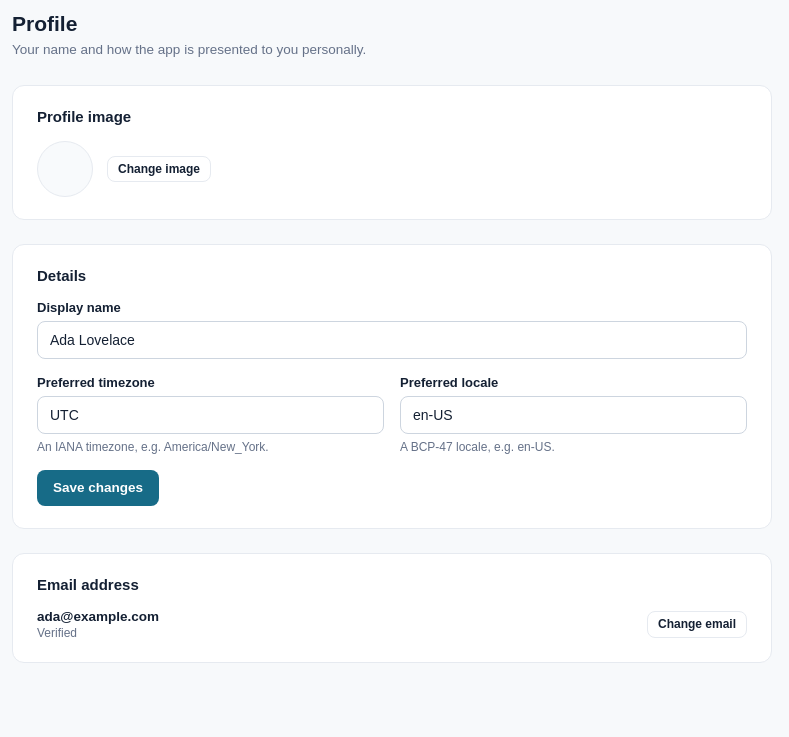
Test: ProfileSettings › saves a display name change
Replace the text in the field labelled "Display name" with "Ada K. Lovelace" at (392, 340), box [37,321,747,359]
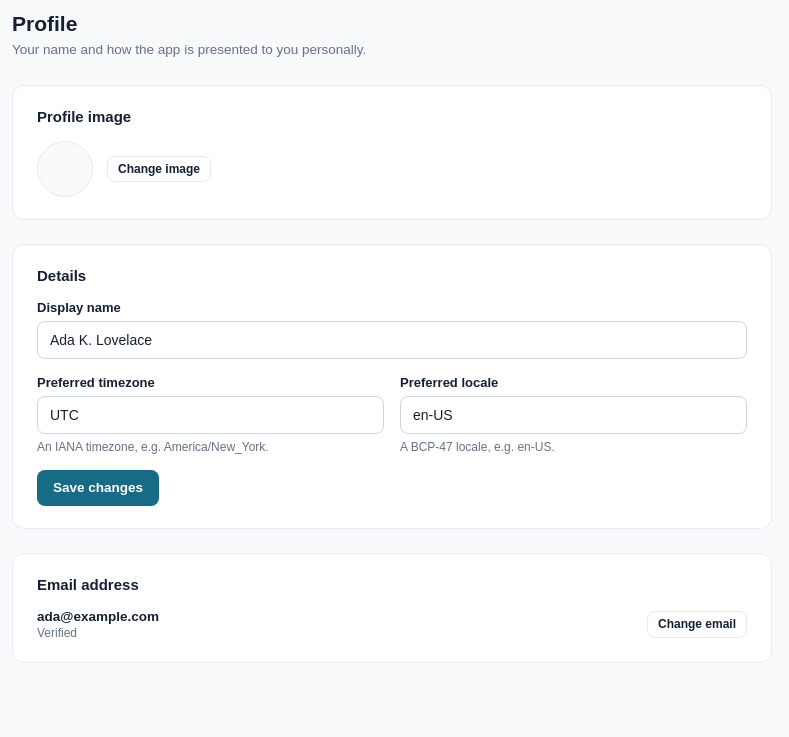
Click the button "Save changes" at (98, 488), box [37,470,159,506]
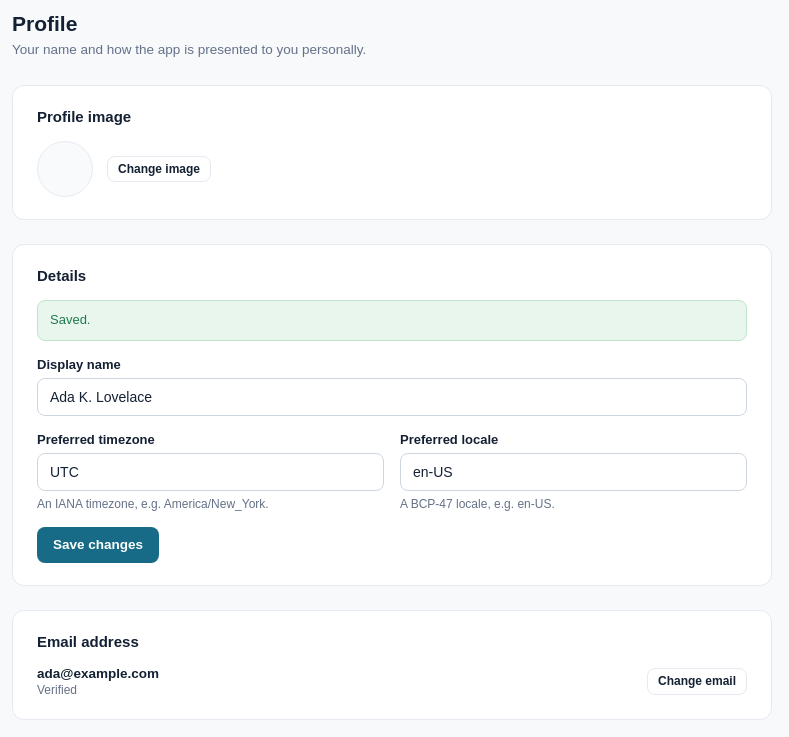
Check: the text "Saved." is shown, box [37,300,747,341]
